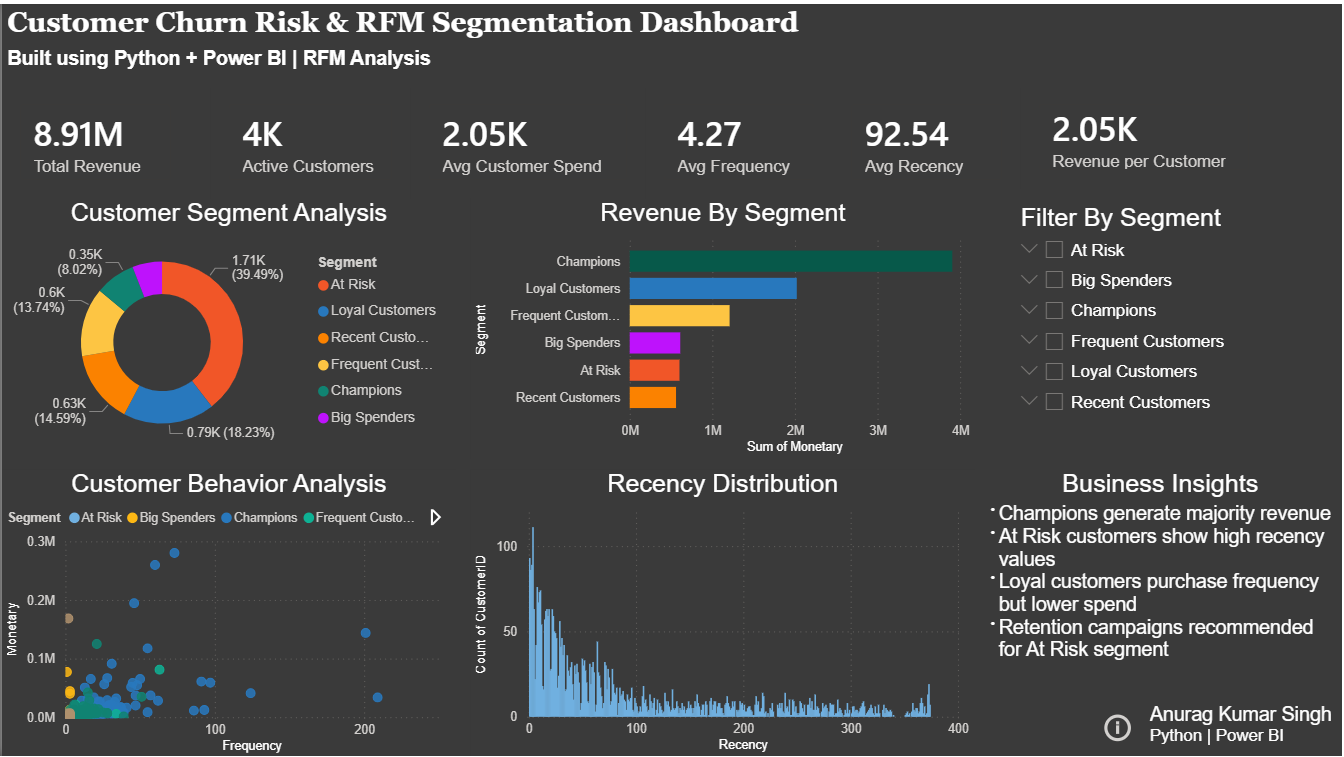

The dashboard page shown, as its layout file describes it:
{"tool":"powerbi","page":{"name":"Page 1","canvas":[1280,720],"ordinal":0},"visuals":[{"type":"cardVisual","fields":{"Data":["Customer_RFM_Segmentation.Total Revenue"]},"box":[0,81,178.4,107],"z":0},{"type":"cardVisual","fields":{"Data":["Customer_RFM_Segmentation.Total Customers"]},"box":[198.8,81,190.5,107.1],"z":1000},{"type":"cardVisual","fields":{"Data":["Customer_RFM_Segmentation.Avg Monetary Value"]},"box":[389.3,81,223.8,107.1],"z":2000},{"type":"cardVisual","fields":{"Data":["Customer_RFM_Segmentation.Avg Frequency"]},"box":[613.4,81,178.4,107],"z":3000},{"type":"cardVisual","fields":{"Data":["Customer_RFM_Segmentation.Avg Recency"]},"box":[791.8,81,178.4,107],"z":4000},{"type":"donutChart","title":"Customer Segment Analysis","fields":{"Category":["Customer_RFM_Segmentation.Segment"],"Y":["CountNonNull(Customer_RFM_Segmentation.CustomerID)"]},"box":[0,188,432.2,248.4],"z":5000},{"type":"clusteredBarChart","title":"Revenue By Segment","fields":{"Y":["Sum(Customer_RFM_Segmentation.Monetary)"],"Category":["Customer_RFM_Segmentation.Segment"]},"box":[446,188,480.3,248.4],"z":6000},{"type":"scatterChart","title":"Customer Behavior Analysis","fields":{"X":["Sum(Customer_RFM_Segmentation.Frequency)"],"Y":["Customer_RFM_Segmentation.Monetary"],"Series":["Customer_RFM_Segmentation.Segment"]},"box":[0,446,432.2,274.4],"z":7000},{"type":"clusteredColumnChart","title":"Recency Distribution","fields":{"Y":["CountNonNull(Customer_RFM_Segmentation.CustomerID)"],"Category":["Customer_RFM_Segmentation.Recency"]},"box":[446,446,480,274],"z":8000},{"type":"slicer","title":"Filter By Segment","fields":{"Values":["Customer_RFM_Segmentation.Segment","Customer_RFM_Segmentation.R_Score","Customer_RFM_Segmentation.M_Score","Customer_RFM_Segmentation.F_Score"]},"box":[957.1,188.1,292.9,215.5],"z":9000},{"type":"textbox","box":[0,0,802.7,60.4],"z":10000},{"type":"textbox","box":[0,39.8,417.2,41.2],"z":11000},{"type":"textbox","title":"Business Insights","box":[926.2,446,354,193.5],"z":12000},{"type":"textbox","box":[1088.1,664.3,191.7,56],"z":13000},{"type":"cardVisual","fields":{"Data":["Customer_RFM_Segmentation.Revenue per Customer"]},"box":[970.2,81,235.7,97.6],"z":14000},{"type":"actionButton","box":[1045.2,675,42.9,34.5],"z":15000}]}

Visuals, with their boxes in screenshot pixels (x1, y1, x2, y2), scaled from the page's 1280x720 canvas onto the 1344x757 screenshot:
cardVisual - Customer_RFM_Segmentation.Total Revenue: <box>0,85,187,198</box>
cardVisual - Customer_RFM_Segmentation.Total Customers: <box>209,85,409,198</box>
cardVisual - Customer_RFM_Segmentation.Avg Monetary Value: <box>409,85,644,198</box>
cardVisual - Customer_RFM_Segmentation.Avg Frequency: <box>644,85,831,198</box>
cardVisual - Customer_RFM_Segmentation.Avg Recency: <box>831,85,1019,198</box>
"Customer Segment Analysis" donutChart: <box>0,198,454,459</box>
"Revenue By Segment" clusteredBarChart: <box>468,198,973,459</box>
"Customer Behavior Analysis" scatterChart: <box>0,469,454,756</box>
"Recency Distribution" clusteredColumnChart: <box>468,469,972,756</box>
"Filter By Segment" slicer: <box>1005,198,1312,424</box>
textbox: <box>0,0,843,64</box>
textbox: <box>0,42,438,85</box>
"Business Insights" textbox: <box>973,469,1343,672</box>
textbox: <box>1143,698,1343,756</box>
cardVisual - Customer_RFM_Segmentation.Revenue per Customer: <box>1019,85,1266,188</box>
actionButton: <box>1097,710,1143,746</box>
